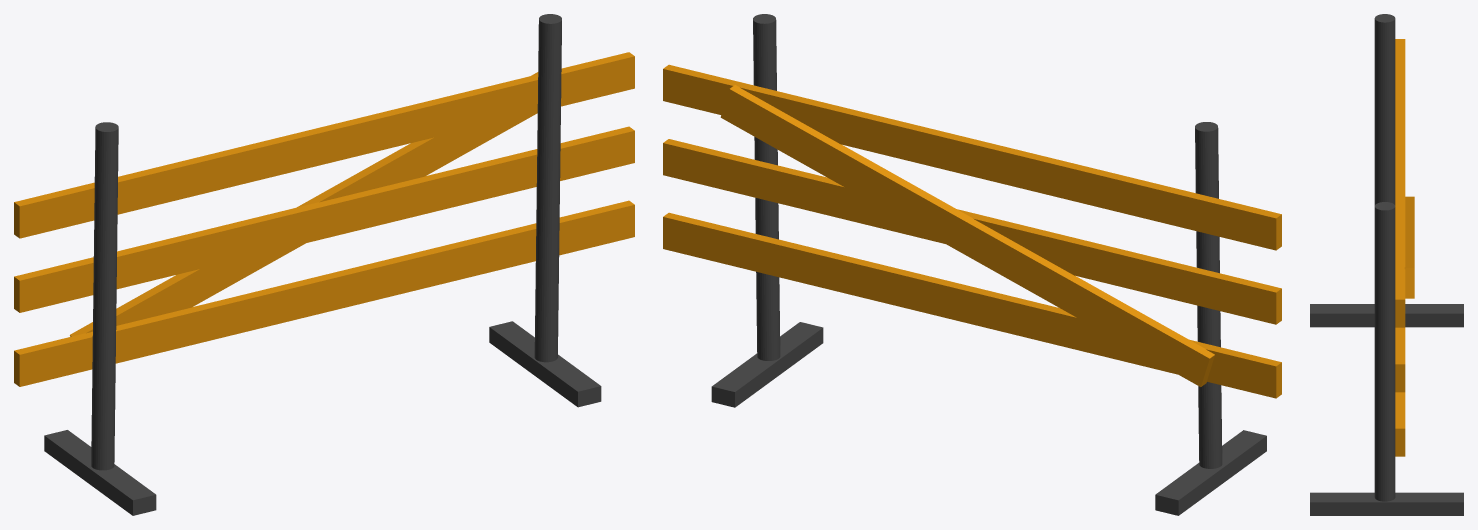
The model's file is BarrierModel.fbx.
The picture shows the model from 3 angles, left to right: view 1: azimuth 30°, elevation 25°; view 2: azimuth 150°, elevation 25°; view 3: azimuth 270°, elevation 25°; orthographic projection. The views are drawn at different scales.
Visible parts, largest first — view 1: Cube.024; view 2: Cube.024; view 3: Cube.024.
Boxes of the visible parts, x1,y1,x2,y2 form: Cube.024: (14,14,634,515); Cube.024: (663,14,1281,515); Cube.024: (1310,14,1463,515).
Bounding box in the file's own units: 123 × 67.59 × 30.76.
